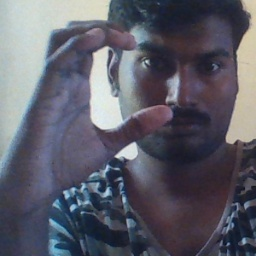C: (57, 15, 176, 161)
